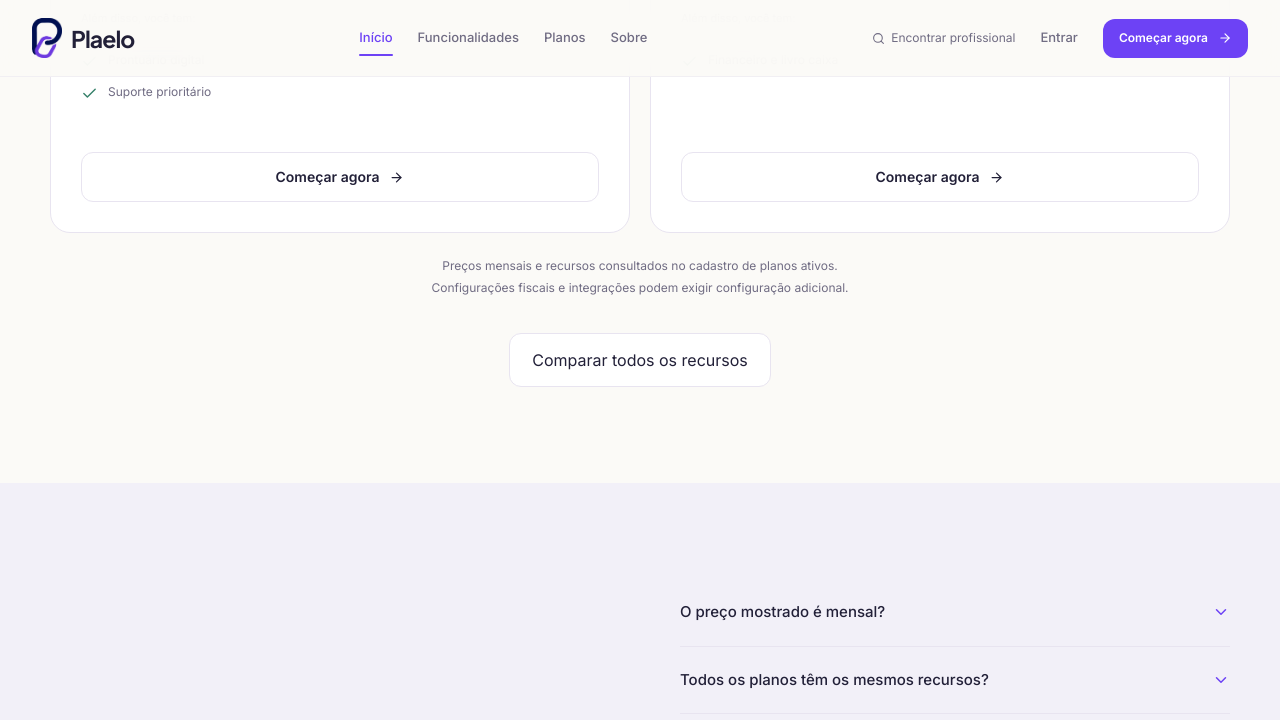
Test: Site público da Plaelo › mostra os preços da API, sem desconto fictício, e compara a inclusão real
The image size is (1280, 720).
(page scrolled)
Expected: the list item "Suporte prioritário" is shown, 81,84 -> 211,102
Click the button "Comparar todos os recursos" at {"x": 640, "y": 360}, box 509,333 -> 771,387
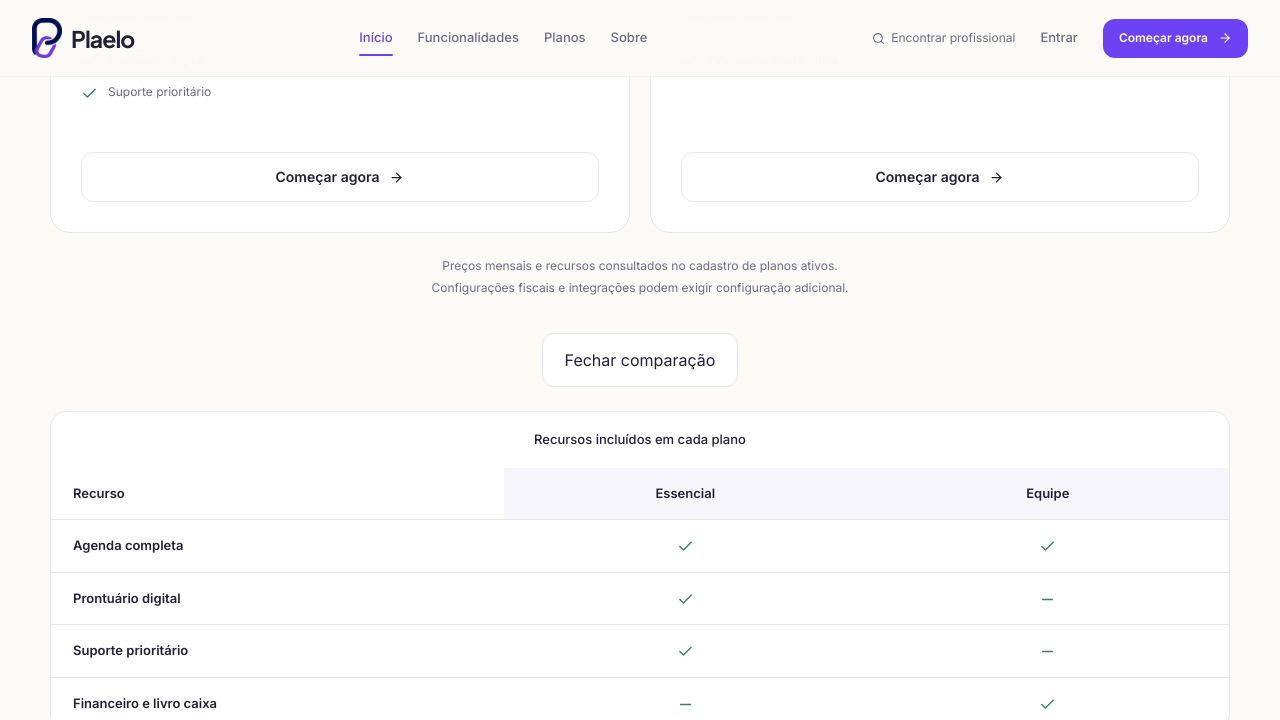
Now the 3rd icon named "Incluído" is shown, box 677,591 -> 694,608
Now the 1st icon named "Não incluído" is shown, box 1039,591 -> 1056,608
